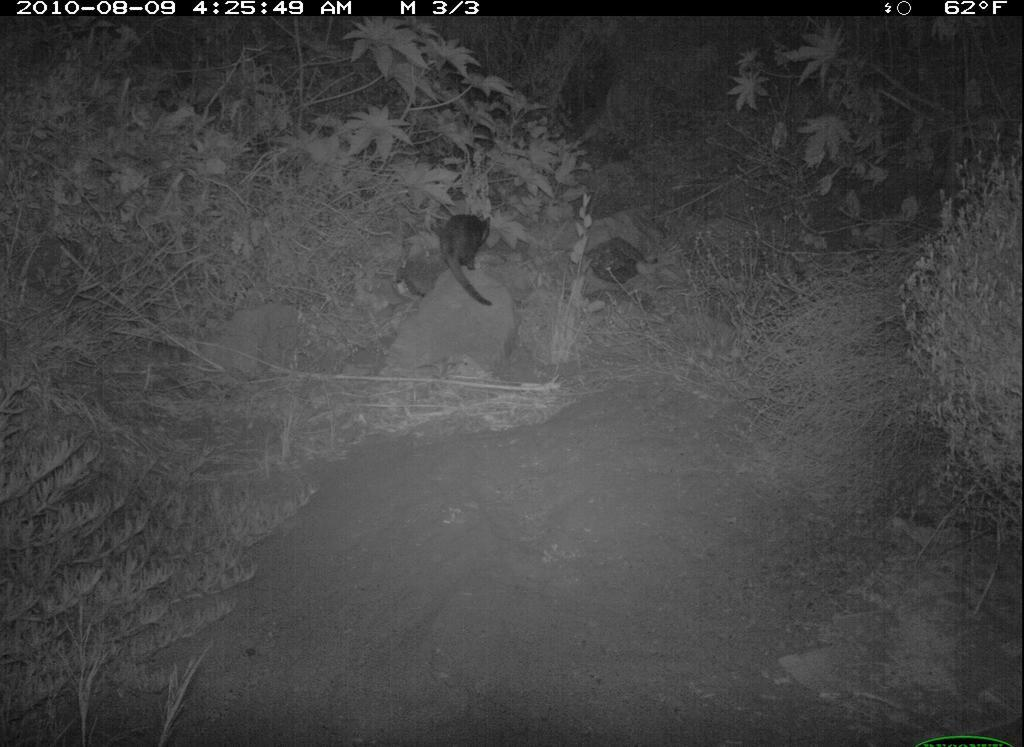cat: (419, 199, 510, 310)
